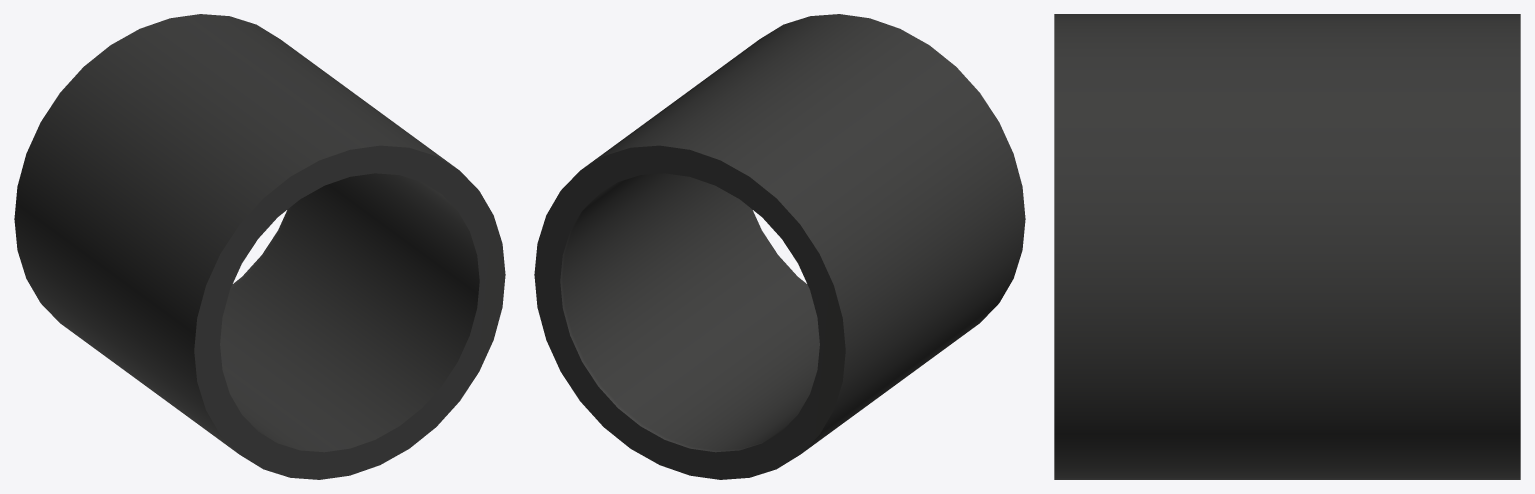
File: rura.fbx
The picture shows the model from 3 angles, left to right: view 1: azimuth 30°, elevation 25°; view 2: azimuth 150°, elevation 25°; view 3: azimuth 270°, elevation 25°; orthographic projection. The views are drawn at different scales.
Parts seen in each view (by area): view 1: Cylinder; view 2: Cylinder; view 3: Cylinder.
Part boxes in pixels (x1=…): Cylinder: x1=14, y1=14, x2=505, y2=479; Cylinder: x1=534, y1=14, x2=1025, y2=479; Cylinder: x1=1054, y1=14, x2=1520, y2=479.
Bounding box in the file's own units: 200 × 200 × 200.
